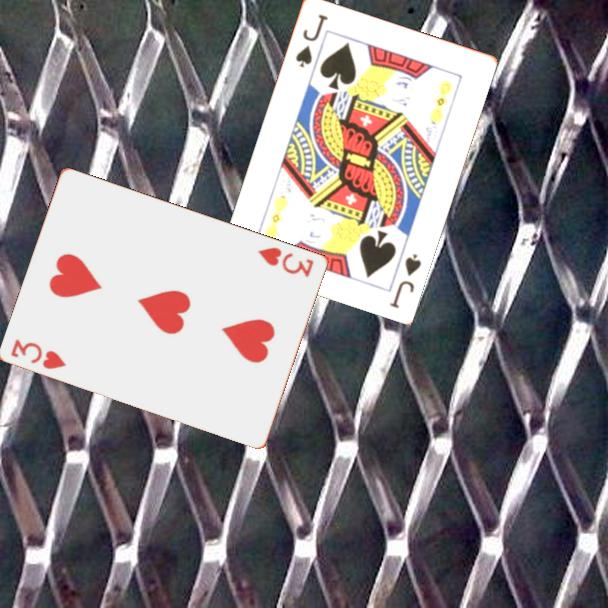h03: (254, 243, 317, 280), (8, 335, 69, 372)
s11: (292, 10, 331, 70), (386, 250, 424, 311)
